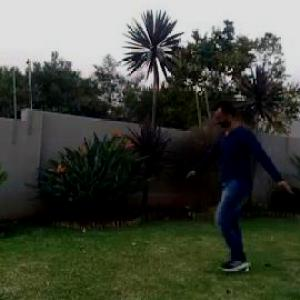land: (177, 83, 299, 289)
